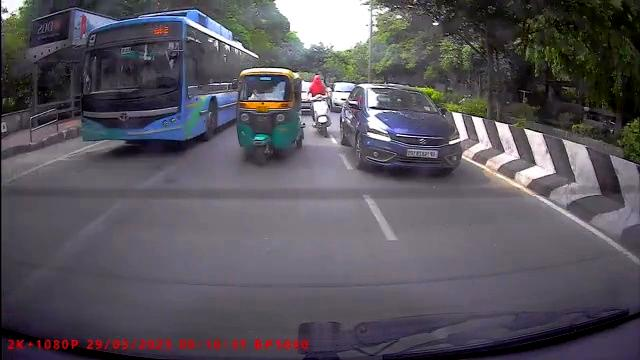motorcycle_without_helmet: (307, 74, 333, 137)
